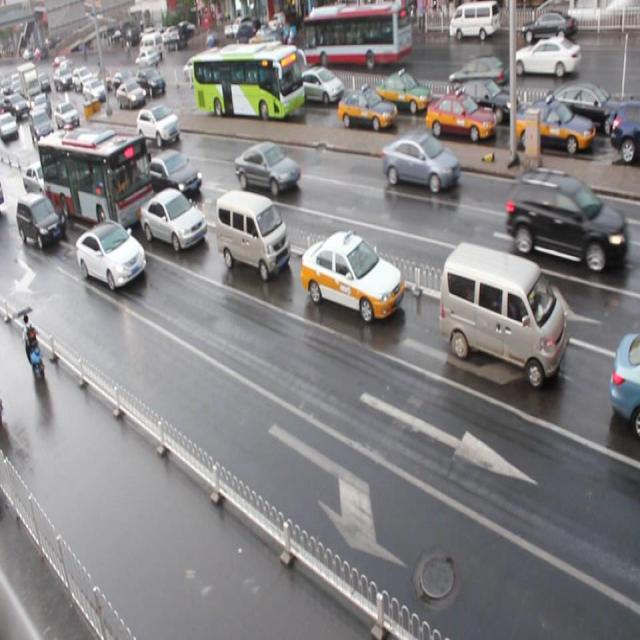car: (507, 168, 612, 268), (300, 229, 403, 321), (380, 130, 458, 196), (76, 219, 146, 289), (515, 101, 595, 160), (540, 79, 622, 133), (140, 188, 208, 252), (425, 91, 494, 144), (235, 142, 301, 196), (448, 78, 518, 126), (608, 330, 640, 432), (146, 148, 201, 204), (17, 190, 62, 250), (338, 86, 396, 132), (373, 71, 430, 114), (294, 66, 342, 109), (138, 104, 182, 150), (610, 100, 640, 161), (22, 160, 62, 204), (116, 80, 147, 108), (137, 66, 164, 96), (54, 104, 80, 130)
truck: (438, 240, 568, 389), (215, 188, 290, 284)
van: (38, 127, 154, 235), (192, 44, 304, 123)
